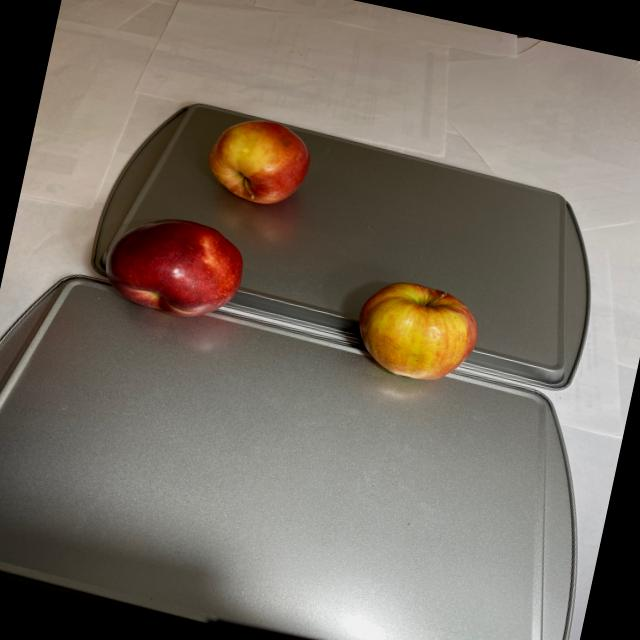apple: (92, 93, 322, 339), (346, 269, 489, 400)
